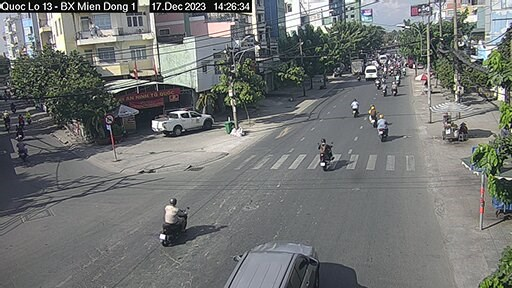car: (230, 233, 322, 288), (150, 109, 218, 136), (363, 64, 379, 81)
motorbike: (158, 196, 187, 244), (317, 138, 336, 170), (377, 116, 389, 139), (348, 96, 360, 116)
